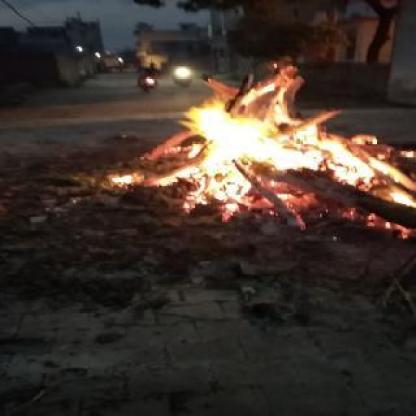Fire: (116, 62, 416, 226)
